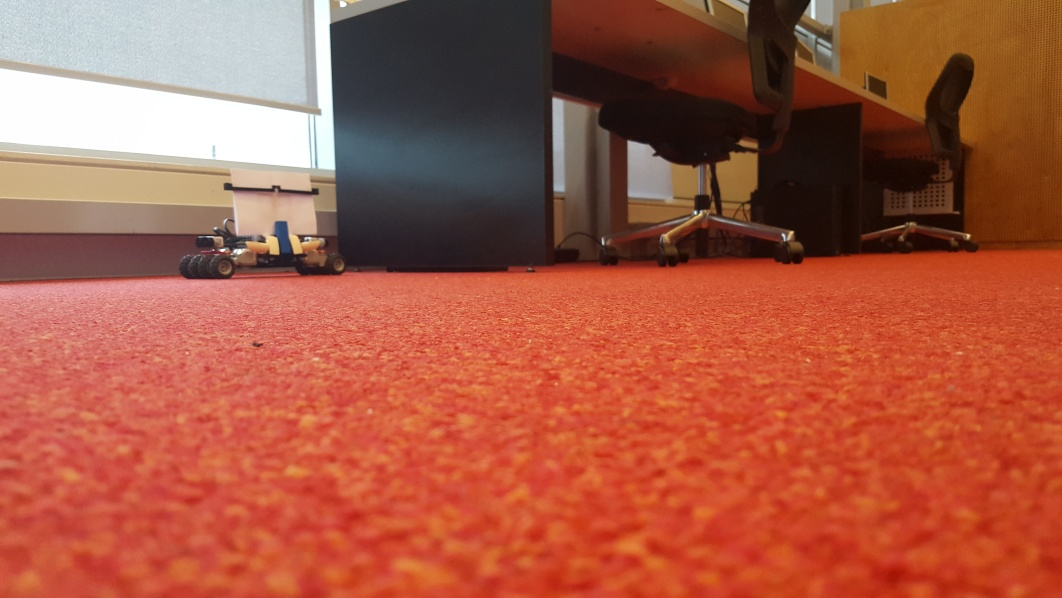car: (181, 167, 350, 282)
